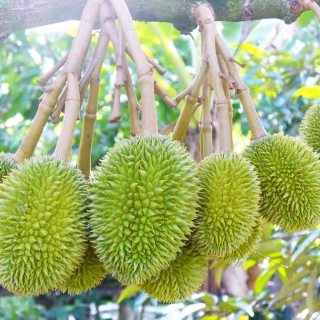sau_rieng: (89, 129, 203, 290), (2, 155, 89, 299), (194, 148, 265, 262)
